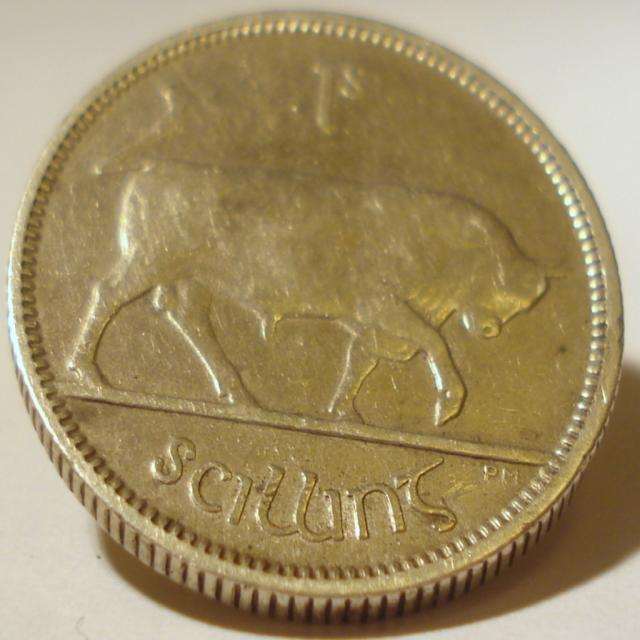Coin: (7, 9, 623, 623)
